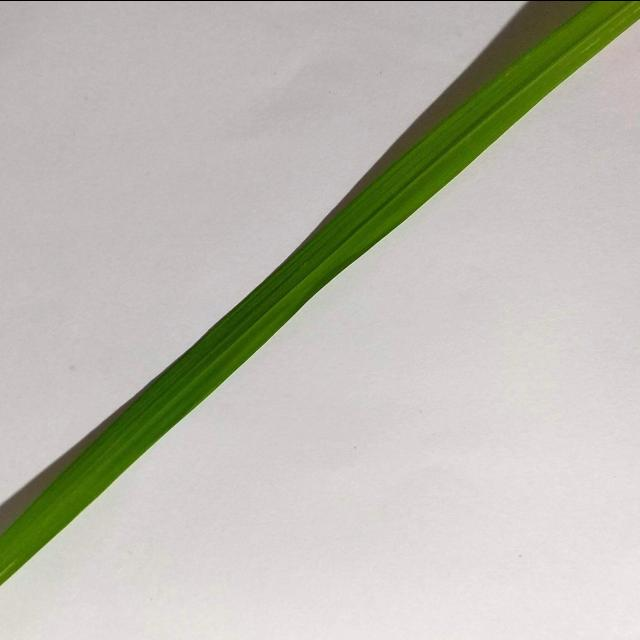healthy: (1, 0, 638, 625)
